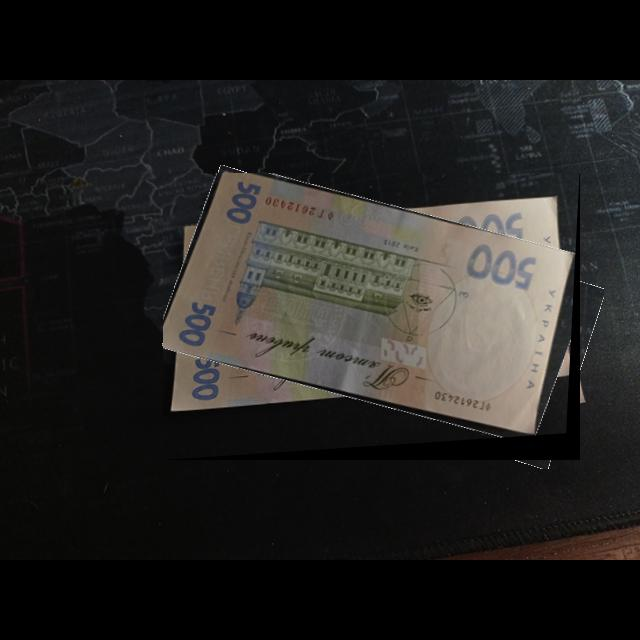500uah: (163, 173, 577, 441)
